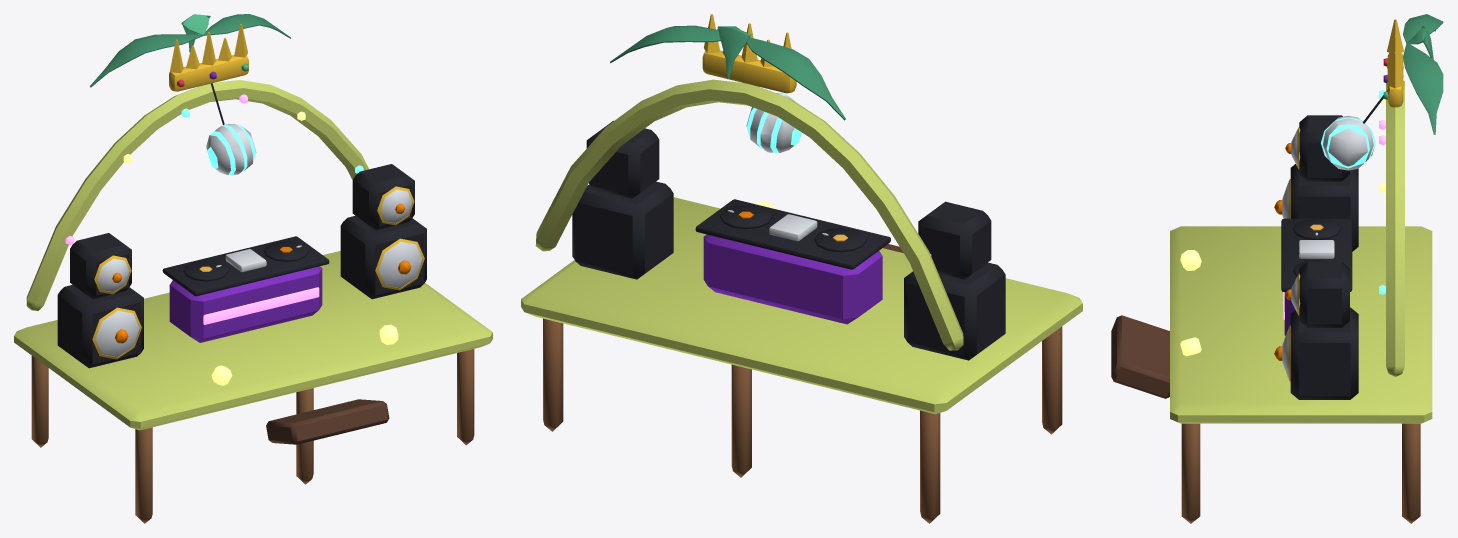
File: W3_DJStage.fbx
3 views of the same model, side by side, from view 1: azimuth 30°, elevation 25°; view 2: azimuth 150°, elevation 25°; view 3: azimuth 270°, elevation 25° (orthographic). The views are drawn at different scales.
Visible parts, largest first — view 1: Static, DiscoBall, Speaker_0, Speaker_2, Speaker_3, Speaker_1, Turntable_L, Turntable_R; view 2: Static, DiscoBall, Turntable_L, Turntable_R; view 3: Static, DiscoBall, Turntable_R, Speaker_0.
Boxes of the visible parts, <box> form: Static: <box>14,14,492,523</box>; DiscoBall: <box>206,123,256,174</box>; Speaker_0: <box>375,238,424,290</box>; Speaker_2: <box>92,307,141,359</box>; Speaker_3: <box>94,255,131,294</box>; Speaker_1: <box>377,186,414,225</box>; Turntable_L: <box>264,241,308,261</box>; Turntable_R: <box>183,260,227,281</box>; Static: <box>521,14,1082,523</box>; DiscoBall: <box>746,93,801,152</box>; Turntable_L: <box>720,205,772,229</box>; Turntable_R: <box>814,228,866,252</box>; Static: <box>1111,14,1443,523</box>; DiscoBall: <box>1321,115,1375,170</box>; Turntable_R: <box>1293,218,1340,239</box>; Speaker_0: <box>1274,325,1290,381</box>.
Size of the model in its own units: 11.33 by 11.56 by 8.44.
